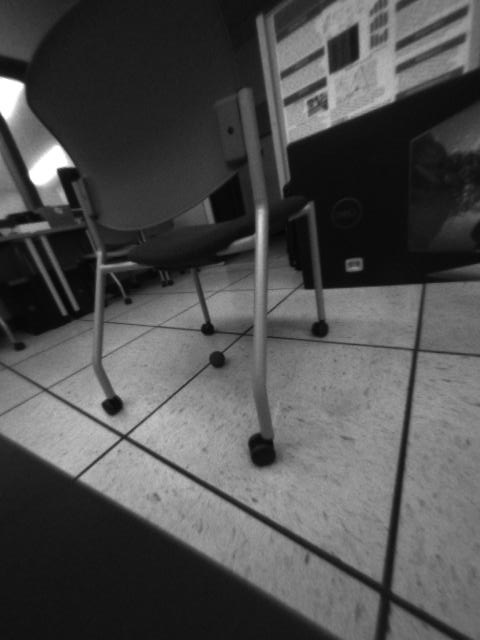dogtoy: (204, 343, 234, 371)
